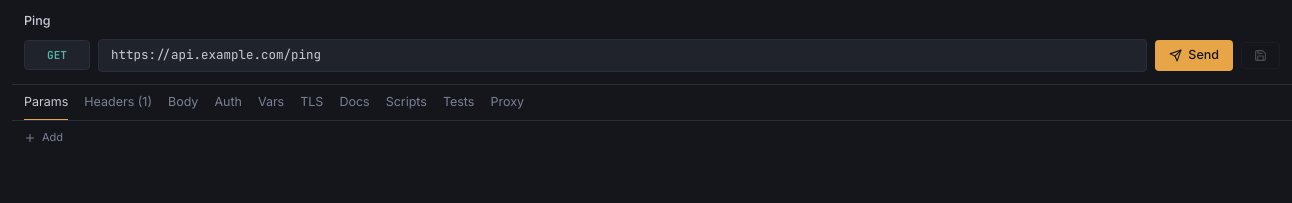
RequestBuilder › switches sub tabs
Click the button "Headers (1)" at (118, 103), box [84,84,152,121]
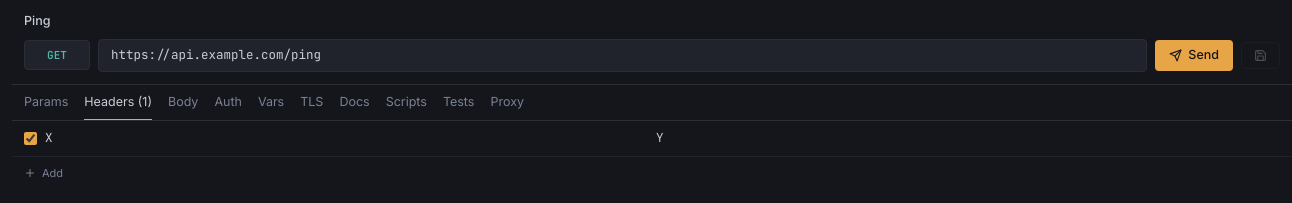
Expected: the 3rd field with placeholder "Header-Name" is shown, [45,125,648,152]
Click the button "Body" at (183, 103), box [168,84,198,121]
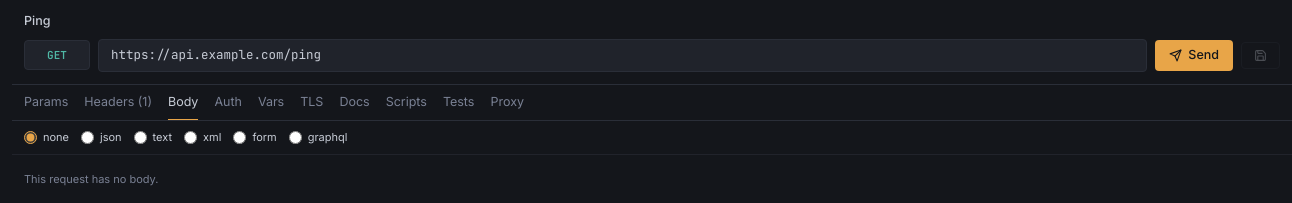
Expected: the text "This request has no body." is shown, [24,172,158,186]
Click the button "Auth" at (228, 103), box [214,84,242,121]
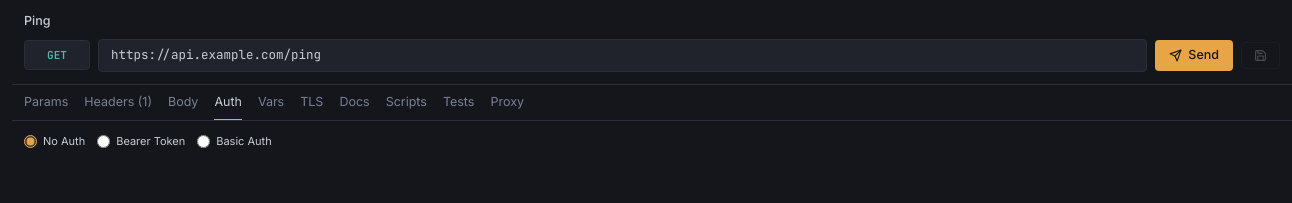
Expected: the text "No Auth" is shown, [24,133,85,150]
